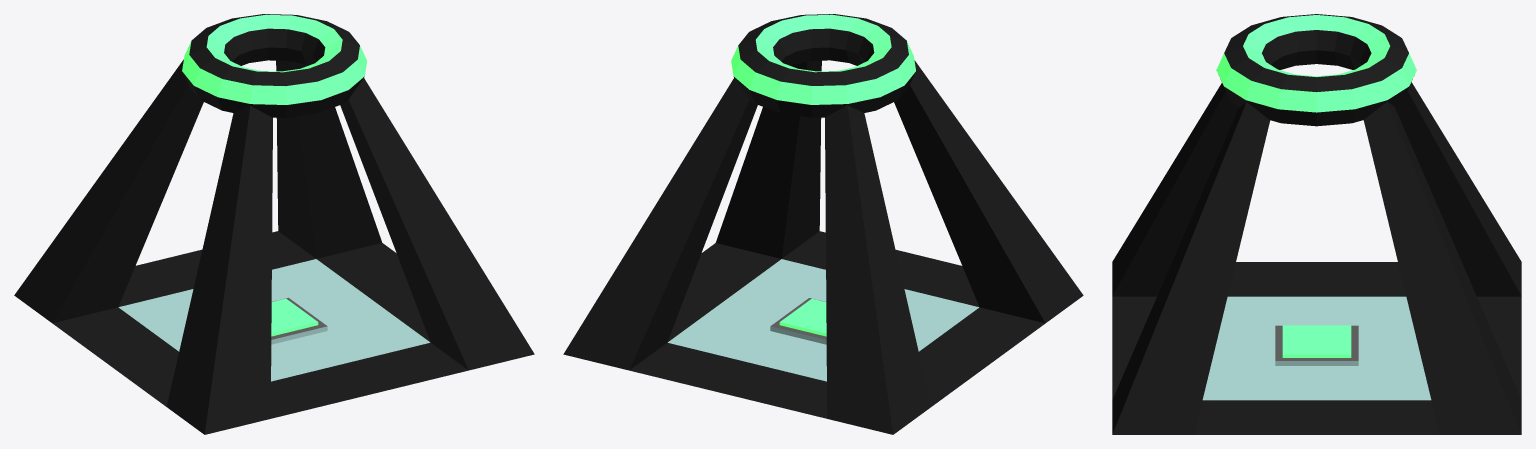
File: AlienPatform.fbx
3 renders of one model, left to right at view 1: azimuth 30°, elevation 25°; view 2: azimuth 150°, elevation 25°; view 3: azimuth 270°, elevation 25°, orthographic. The views are drawn at different scales.
Visible parts, largest first — view 1: AlienPanel; view 2: AlienPanel; view 3: AlienPanel.
Boxes of the visible parts, box(x1,y1,x2,y2) form: AlienPanel: box(14, 14, 534, 434); AlienPanel: box(563, 14, 1083, 434); AlienPanel: box(1112, 14, 1521, 434).
Size of the model in its own units: 200 by 163 by 200.
